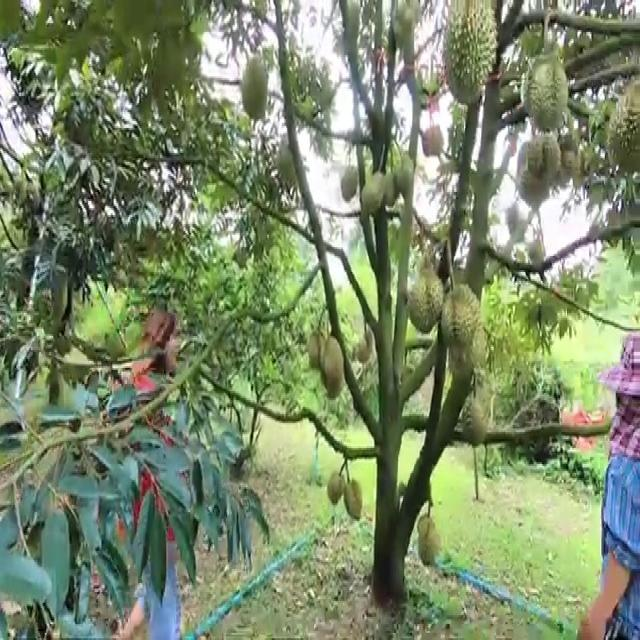durian: (439, 0, 500, 110), (438, 277, 488, 390), (521, 44, 571, 138), (512, 129, 562, 213), (603, 77, 639, 186), (402, 258, 450, 337), (239, 50, 273, 124), (548, 126, 583, 194), (320, 330, 347, 404), (416, 512, 445, 574), (461, 391, 490, 453), (359, 167, 388, 216), (340, 472, 364, 524), (396, 147, 415, 204), (307, 326, 328, 376), (336, 162, 360, 202), (326, 466, 346, 507), (383, 166, 402, 208), (352, 332, 373, 368)
